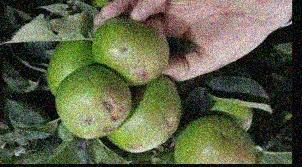rotten apple: (105, 75, 183, 154), (52, 64, 134, 138), (89, 11, 171, 82)
